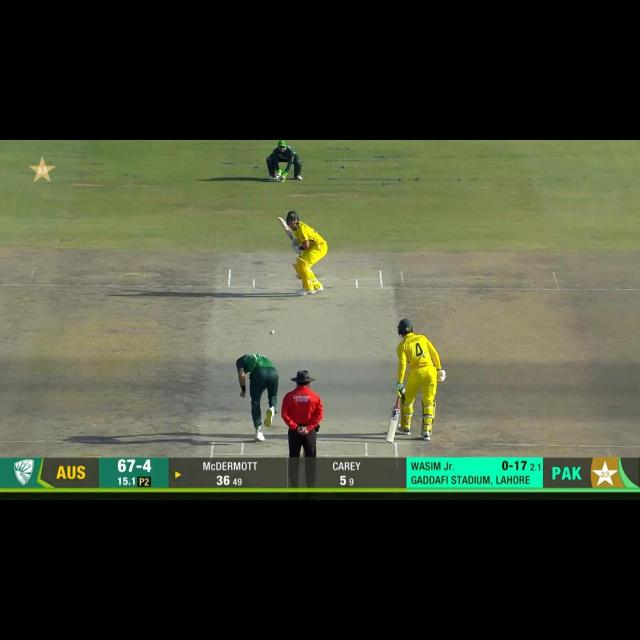bat: (385, 407, 402, 444), (277, 216, 294, 239)
toe: (384, 434, 396, 444), (277, 216, 284, 223)
